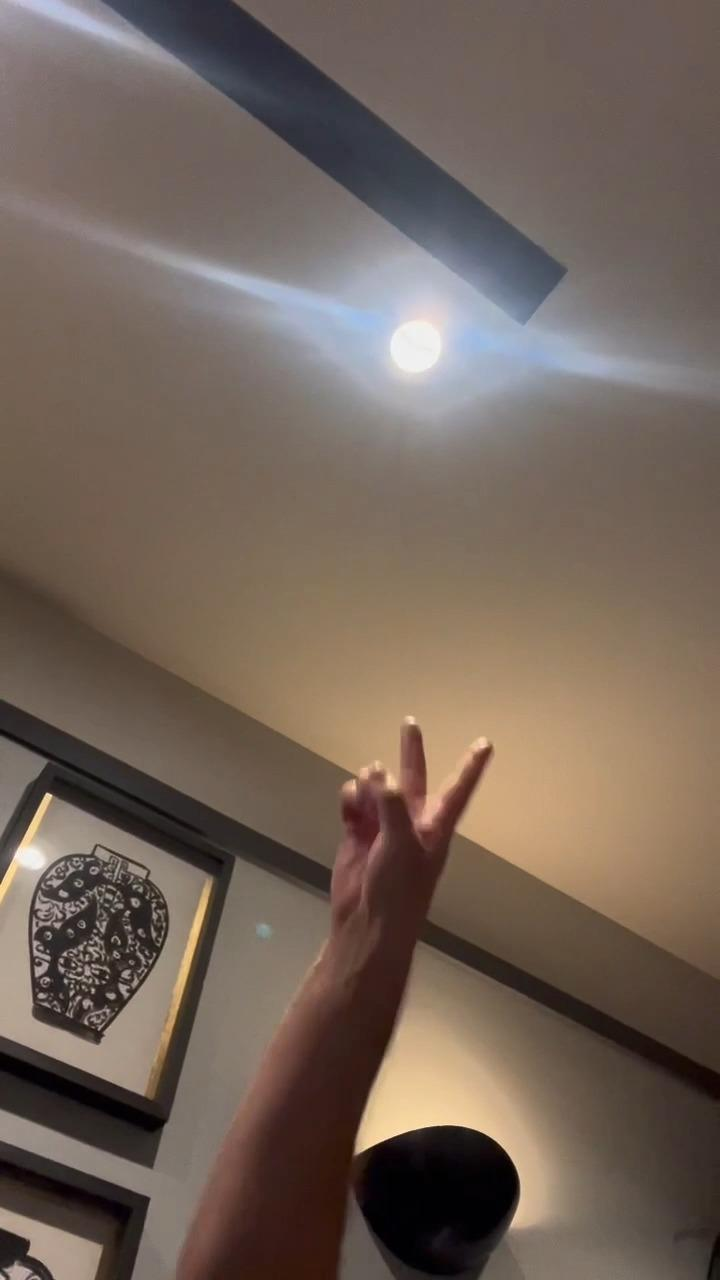Scissors: (328, 716, 502, 964)
